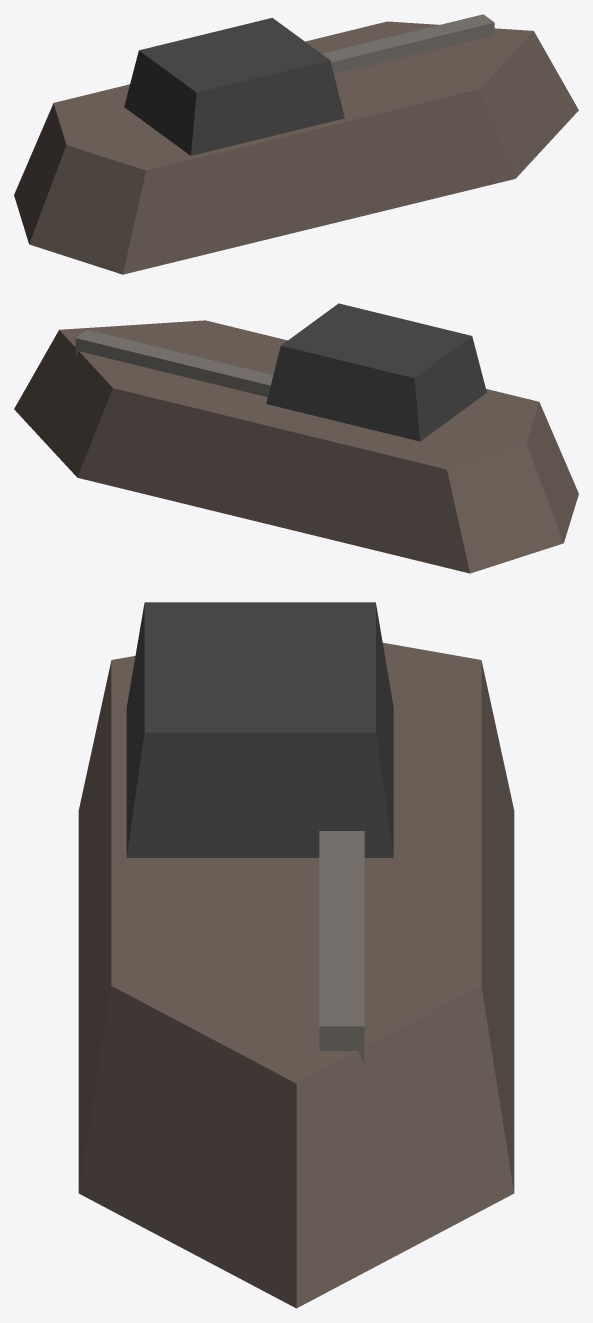
The model's file is wreck.glb.
3 renders of one model, top to bottom at view 1: azimuth 30°, elevation 25°; view 2: azimuth 150°, elevation 25°; view 3: azimuth 270°, elevation 25°, orthographic. The views are drawn at different scales.
Size of the model in its own units: 14 by 3.6 by 4.8.
